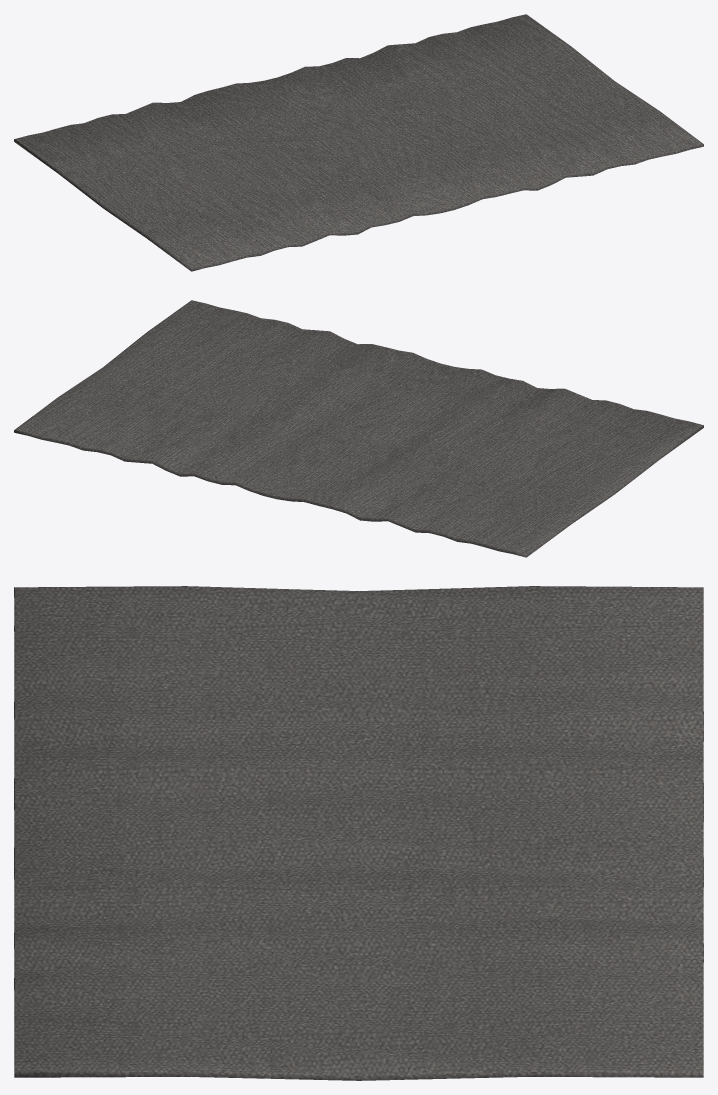
Rendered from carpet.glb.
3 renders of one model, top to bottom at view 1: azimuth 30°, elevation 25°; view 2: azimuth 150°, elevation 25°; view 3: azimuth 270°, elevation 25°, orthographic. The views are drawn at different scales.
Parts seen in each view (by area): view 1: Plane001; view 2: Plane001; view 3: Plane001.
Part boxes in pixels (<box>): Plane001: <box>14,14,703,271</box>; Plane001: <box>14,300,703,557</box>; Plane001: <box>14,586,703,1080</box>.
Size of the model in its own units: 98.89 by 1.66 by 59.33.
1 material, 1 textured.
